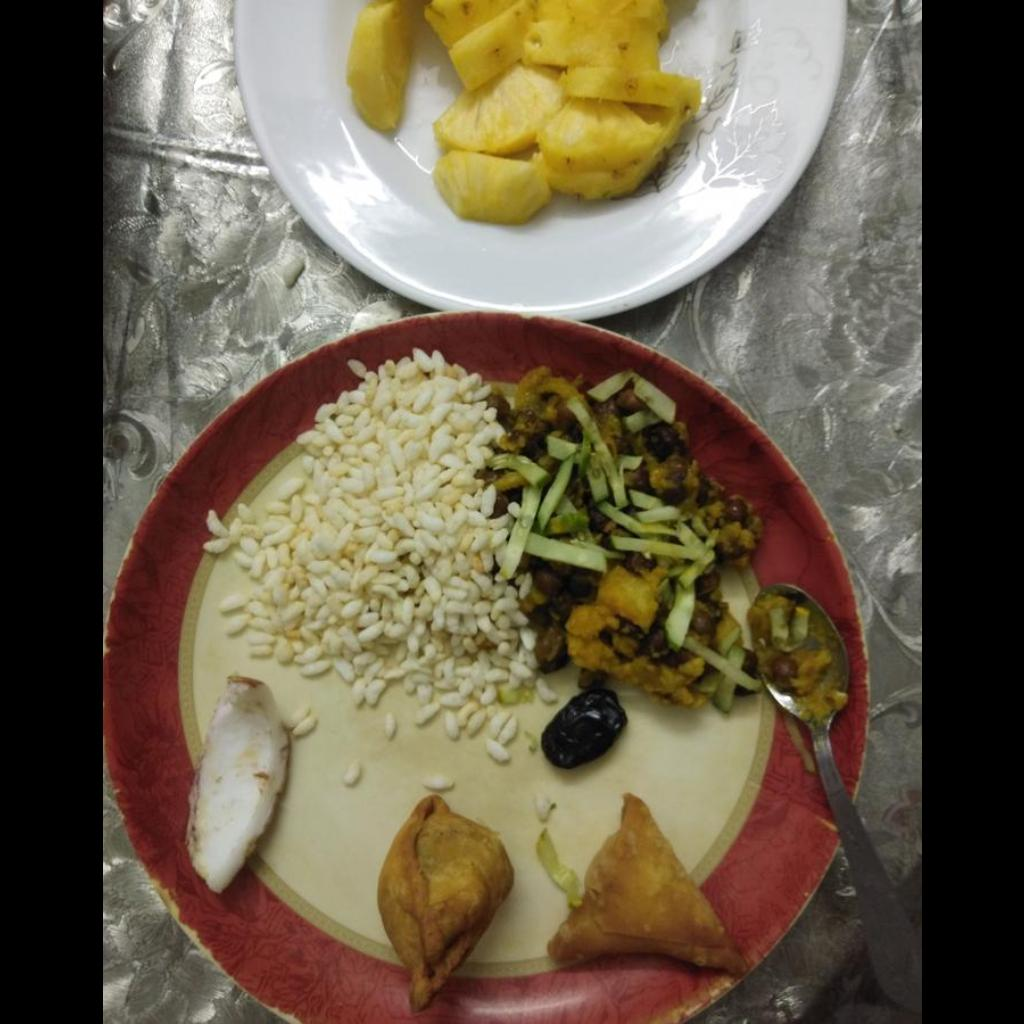chola: (480, 368, 804, 711)
dates: (540, 684, 625, 769)
mango: (347, 0, 411, 131)
pineapple: (425, 0, 700, 224)
puffed-rice: (199, 364, 530, 695)
puri: (548, 793, 746, 975), (377, 794, 512, 1010)
